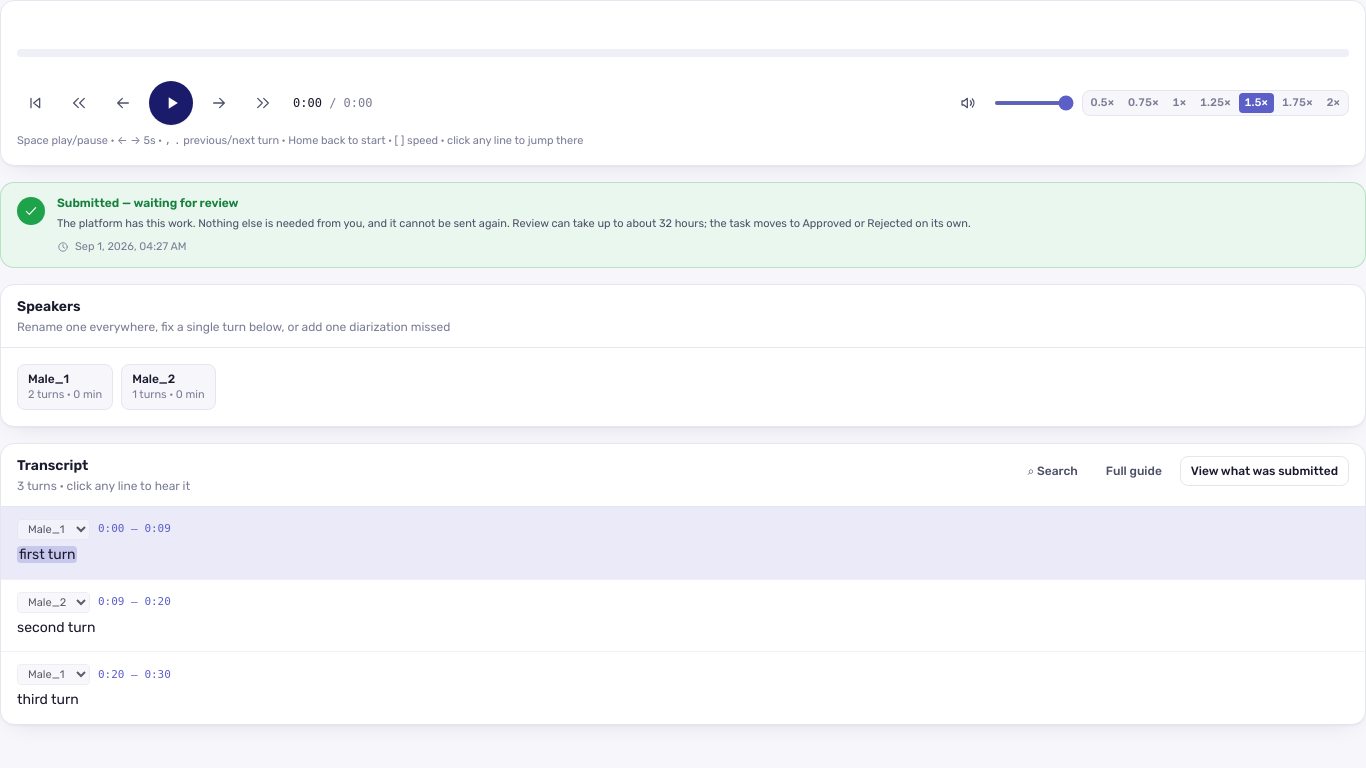
Scenario: a task that has already been submitted › disables Submit inside the dialog, and says why
Click the button "View what was submitted". click: [1264, 471]
box: left=1180, top=456, right=1349, bottom=486
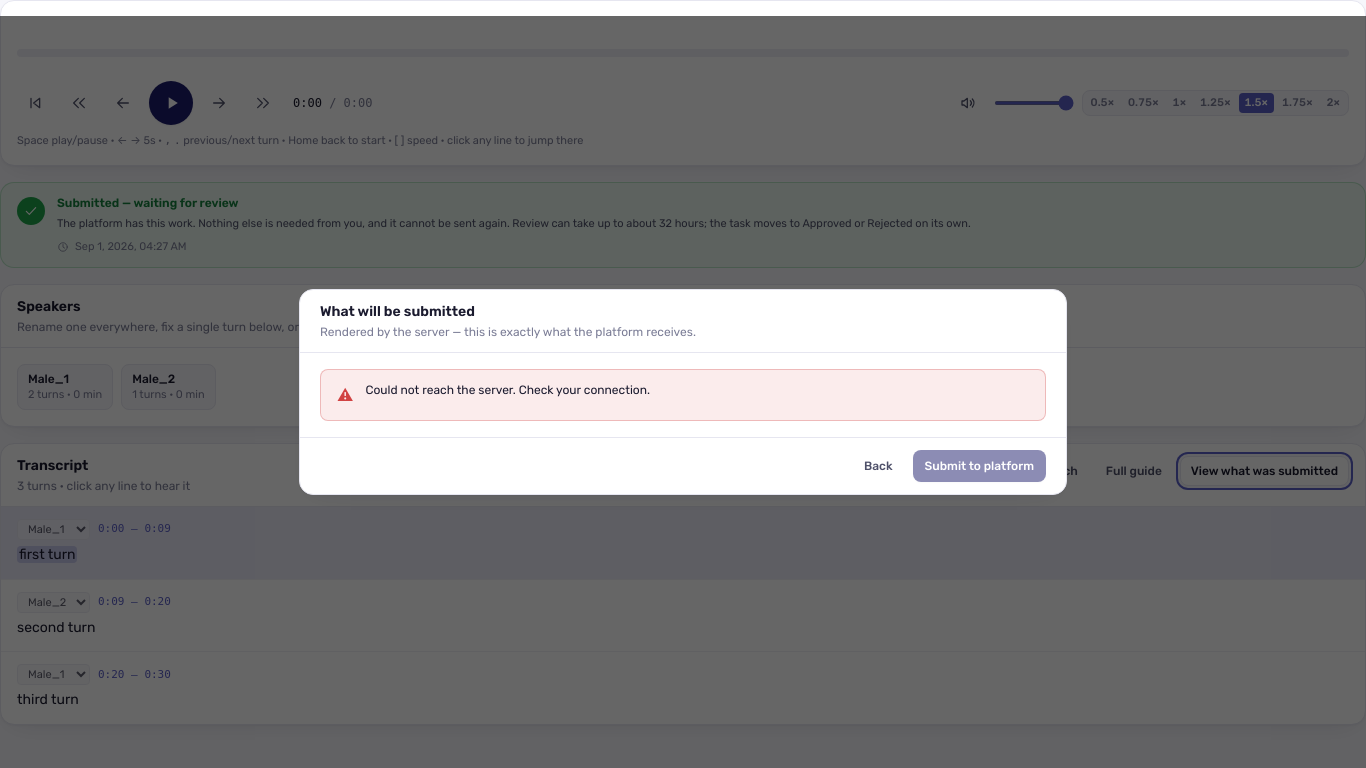
Now the button "Submit to platform" is disabled, box left=912, top=450, right=1046, bottom=482
